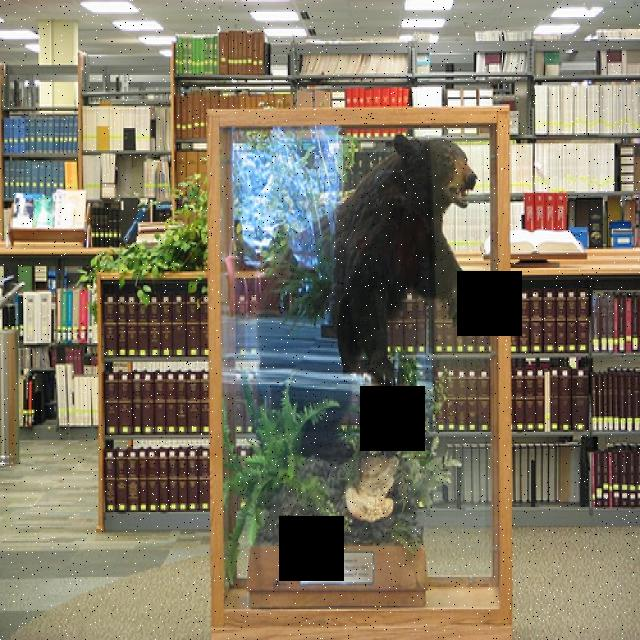Bear: (280, 134, 479, 384)
